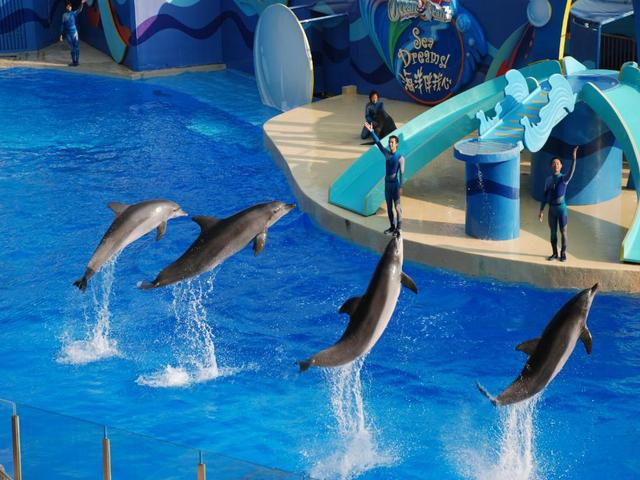dolphin: (458, 293, 623, 419), (302, 233, 427, 389), (165, 191, 317, 302), (87, 175, 187, 259)
